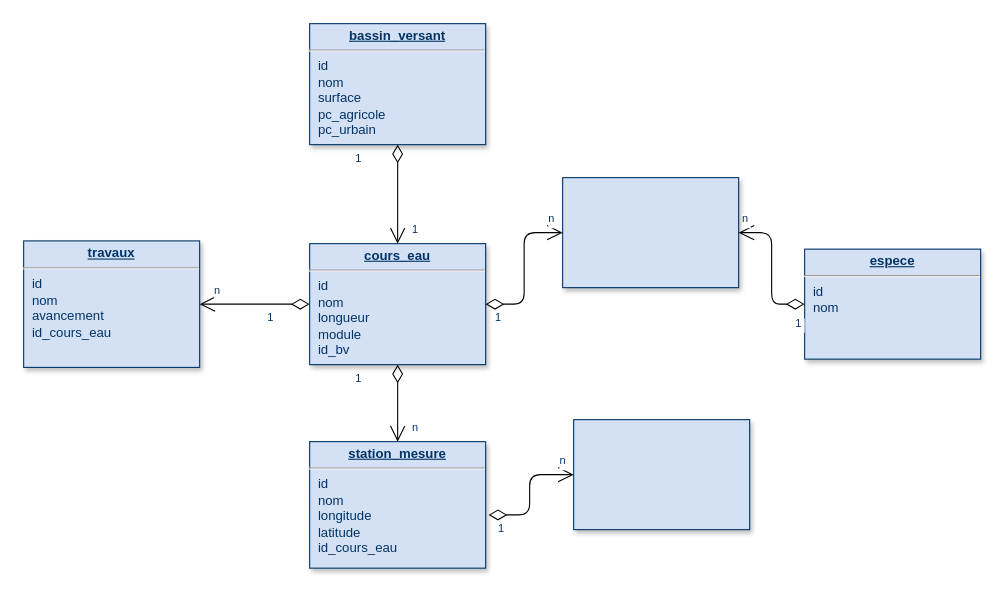
This 1007x595 diagram has some shape labels left out. The centre of each missing label's shape, as x and y in pixels:
"nb_espece id_espece id_cours_eau somme" goes at (651,233).
"parametre id type id_station" goes at (662,475).
